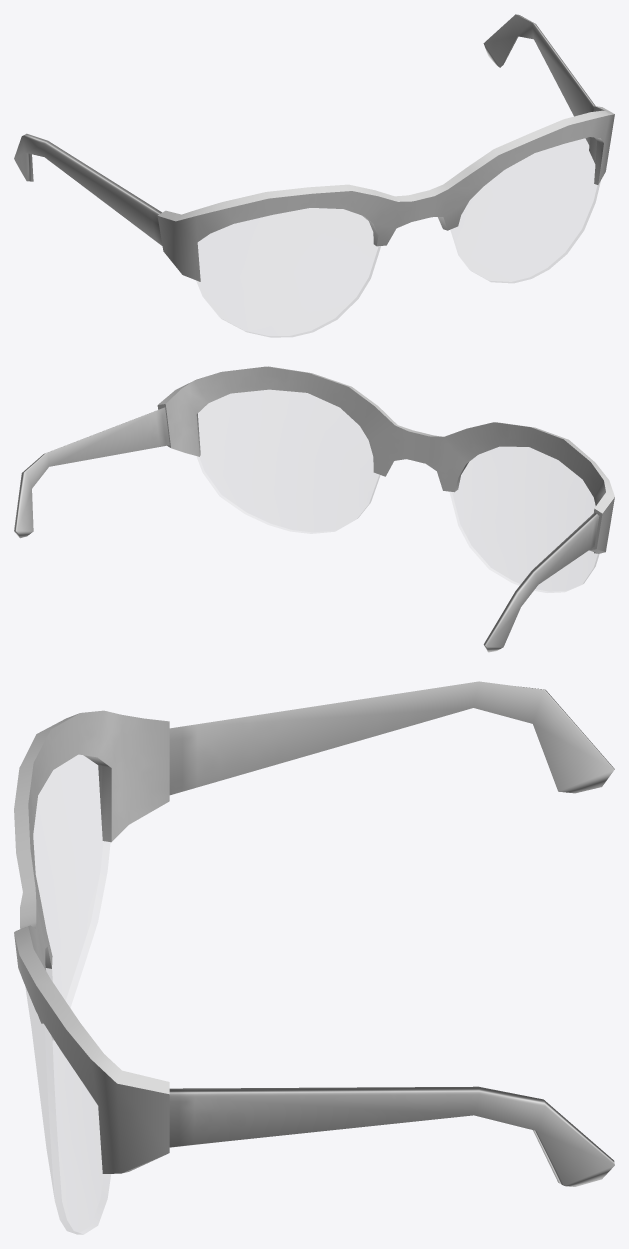
The model's file is p0_eyw0001_00_eyw00.gltf.
The picture shows the model from 3 angles, top to bottom: view 1: azimuth 30°, elevation 25°; view 2: azimuth 150°, elevation 25°; view 3: azimuth 270°, elevation 25°; orthographic projection. The views are drawn at different scales.
Parts seen in each view (by area): view 1: eyw00_glass_mesh_shape:eyewear, eyw00_temple_mesh_shape:eyewear, eyw00_lens_mesh_shape:eyewear; view 2: eyw00_glass_mesh_shape:eyewear, eyw00_temple_mesh_shape:eyewear; view 3: eyw00_temple_mesh_shape:eyewear, eyw00_glass_mesh_shape:eyewear, eyw00_lens_mesh_shape:eyewear.
Boxes of the visible parts, x1,y1,x2,y2 form: eyw00_glass_mesh_shape:eyewear: (157,106,614,281); eyw00_temple_mesh_shape:eyewear: (14,14,595,245); eyw00_lens_mesh_shape:eyewear: (221,178,600,337); eyw00_glass_mesh_shape:eyewear: (157,366,614,553); eyw00_temple_mesh_shape:eyewear: (14,407,599,652); eyw00_temple_mesh_shape:eyewear: (169,681,614,1186); eyw00_glass_mesh_shape:eyewear: (14,710,169,1173); eyw00_lens_mesh_shape:eyewear: (25,968,82,1234).
Size of what is drawn, in the model's own units: 0.2161 by 0.0641 by 0.1316.
Materials: 1 (1 with a texture image).
